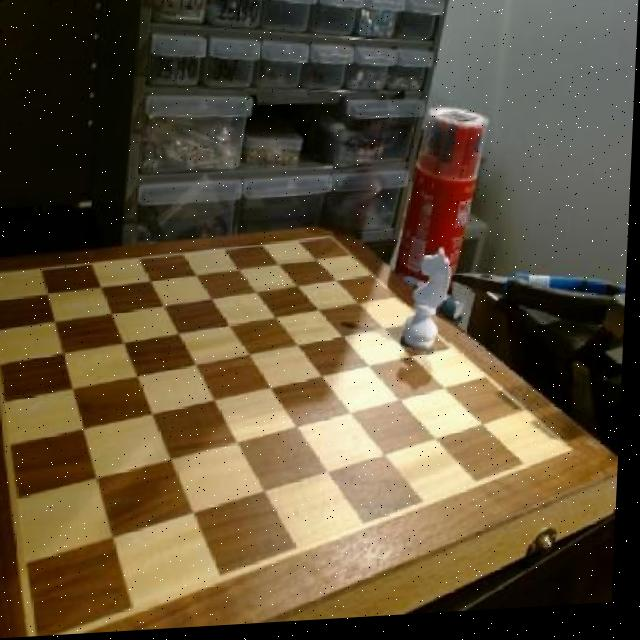white-king: (407, 246, 458, 367)
